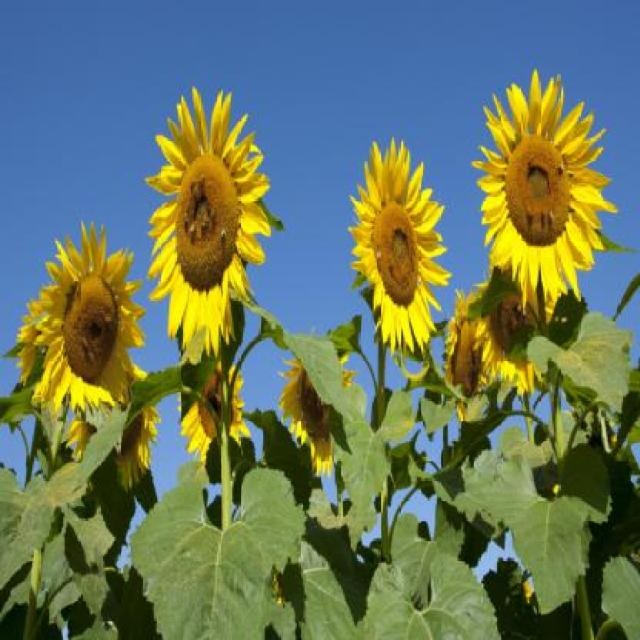sunflower: (136, 73, 278, 350), (477, 77, 608, 300), (17, 224, 145, 441), (341, 108, 448, 364)
